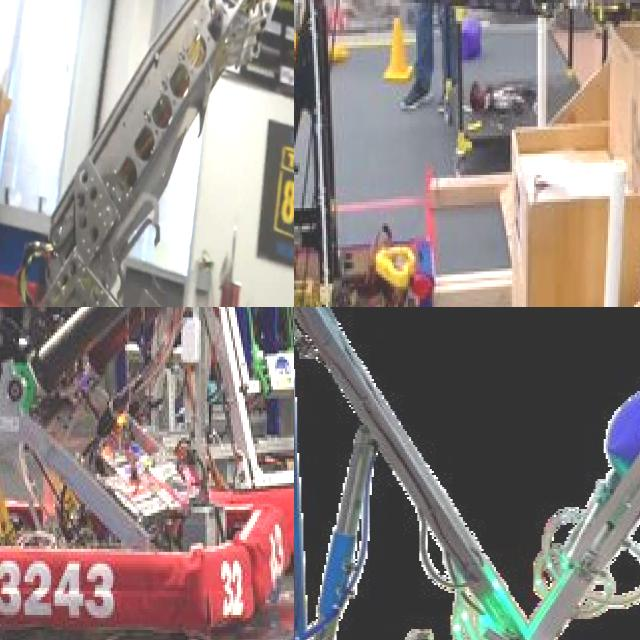FRC-Robots: (294, 307, 640, 640), (294, 0, 640, 307), (0, 0, 294, 307), (0, 307, 284, 608), (186, 307, 294, 587)
